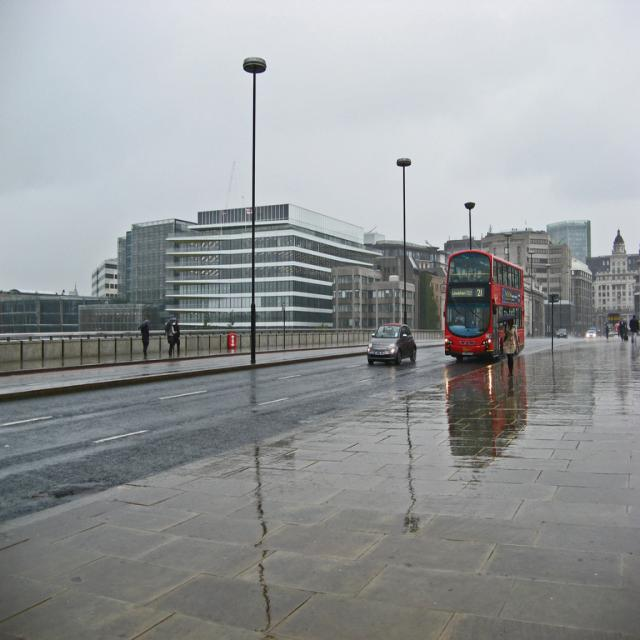car: (367, 320, 413, 364)
